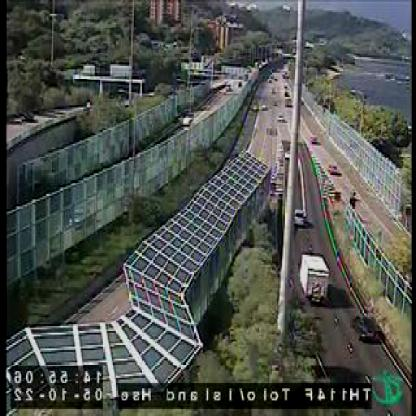Car: (352, 314, 377, 340), (295, 210, 304, 229), (329, 163, 339, 175), (310, 133, 320, 144)
Truck: (302, 251, 332, 305)
